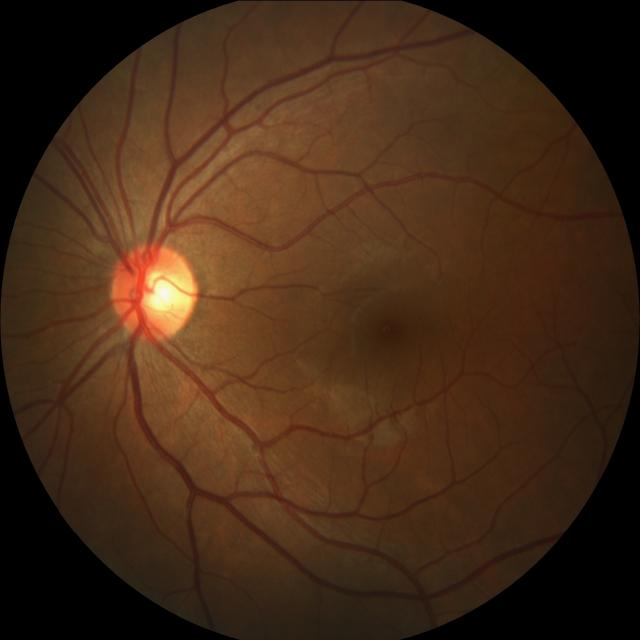OC: (124, 264, 184, 322)
OD: (112, 241, 199, 341)
